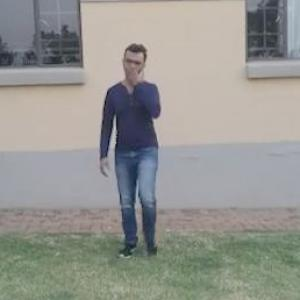follow: (104, 42, 168, 248)
